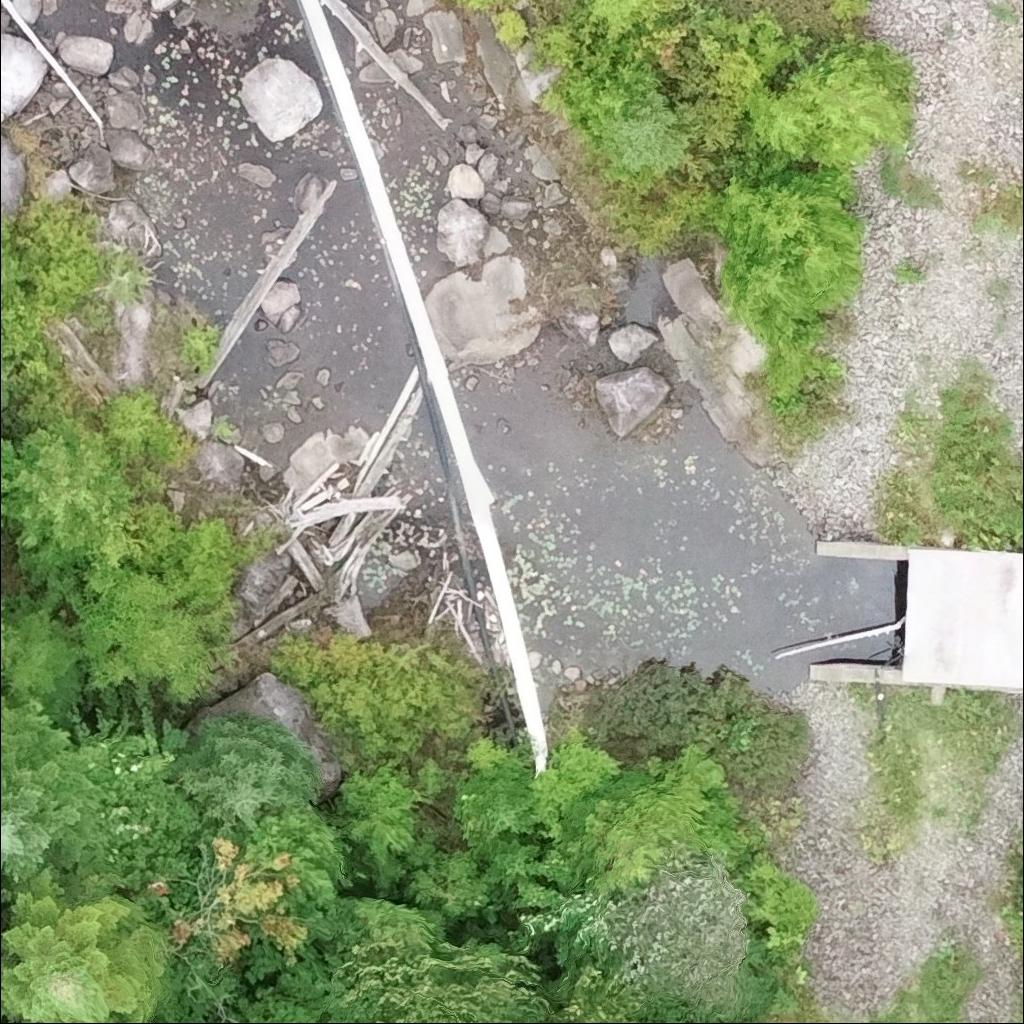crown: (585, 741, 741, 891), (4, 891, 170, 1023), (149, 842, 307, 962), (784, 36, 912, 172), (183, 723, 321, 831), (712, 165, 862, 257), (0, 757, 103, 882), (552, 25, 664, 138), (712, 251, 826, 347), (242, 811, 348, 909), (343, 766, 424, 870), (0, 695, 68, 801), (740, 83, 820, 164), (795, 241, 869, 313), (579, 0, 690, 44), (532, 19, 595, 68), (0, 929, 25, 1023), (23, 1018, 32, 1023)
